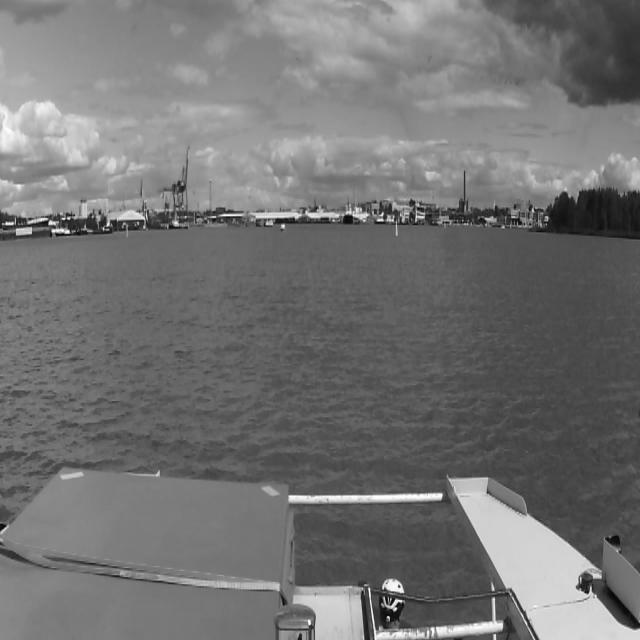buoy: (394, 220, 398, 237), (126, 223, 128, 238)
ship: (343, 198, 353, 224), (280, 223, 286, 230)
